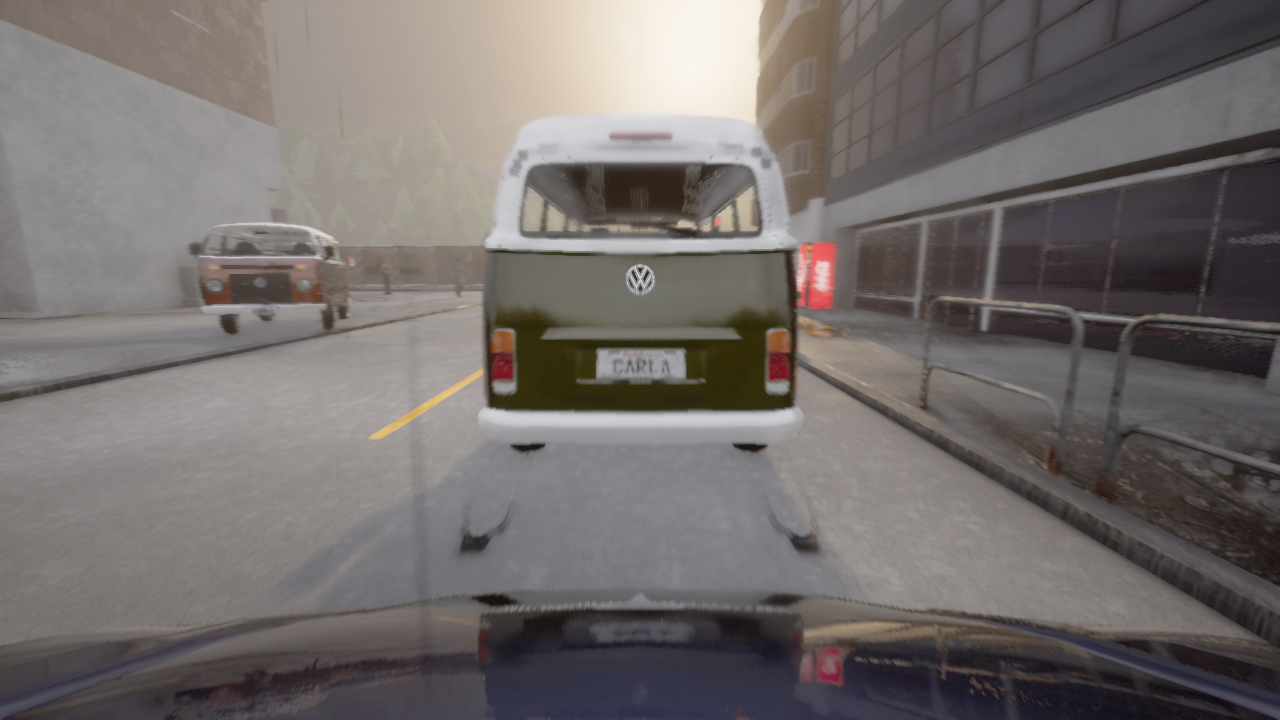cyclist: (0, 588, 1279, 719), (478, 114, 803, 452), (189, 222, 350, 334)
pedestrian: (450, 257, 466, 297), (381, 258, 390, 294)
